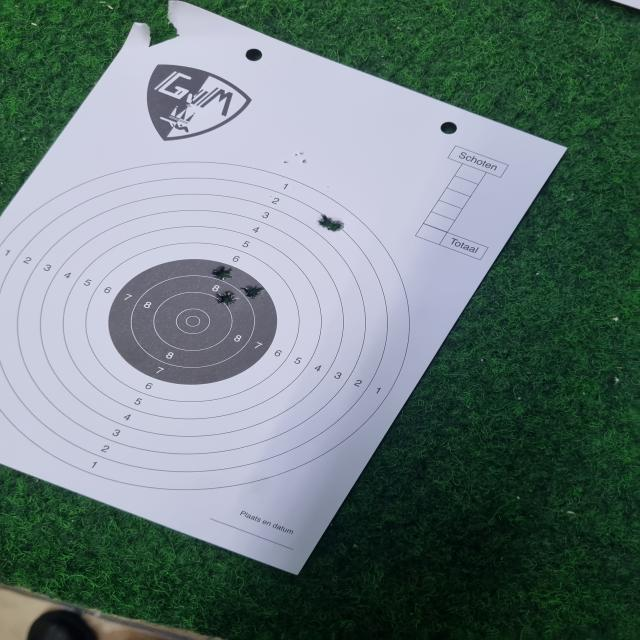2: (326, 221, 344, 232), (318, 214, 332, 228)
7: (240, 285, 264, 299), (212, 266, 234, 280)
9: (216, 291, 236, 305)
Target: (0, 161, 421, 490)
black_contour: (106, 262, 276, 380)
